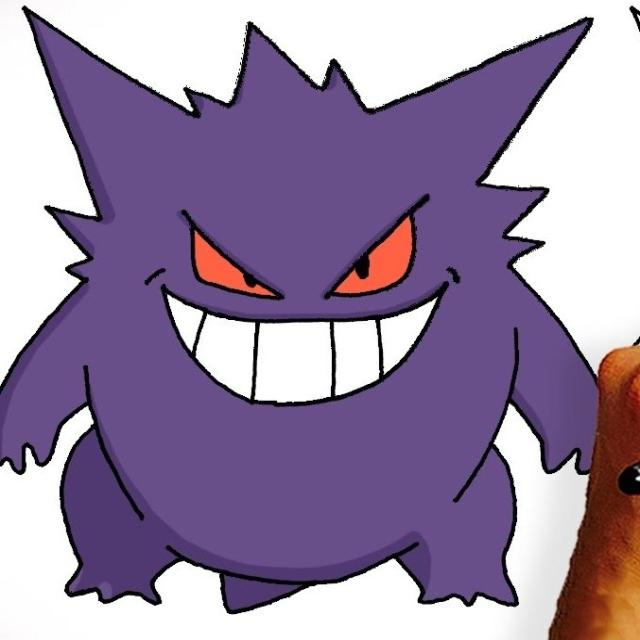Gengar: (0, 0, 614, 625)
